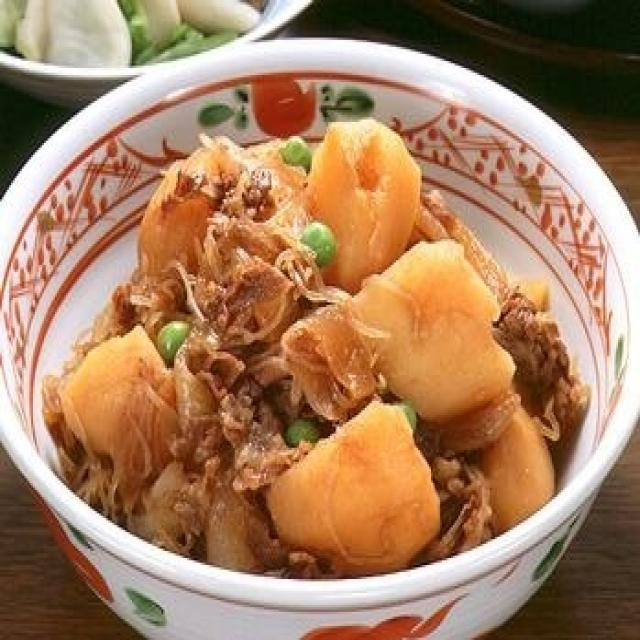牛肉菜式: (0, 49, 640, 640)
